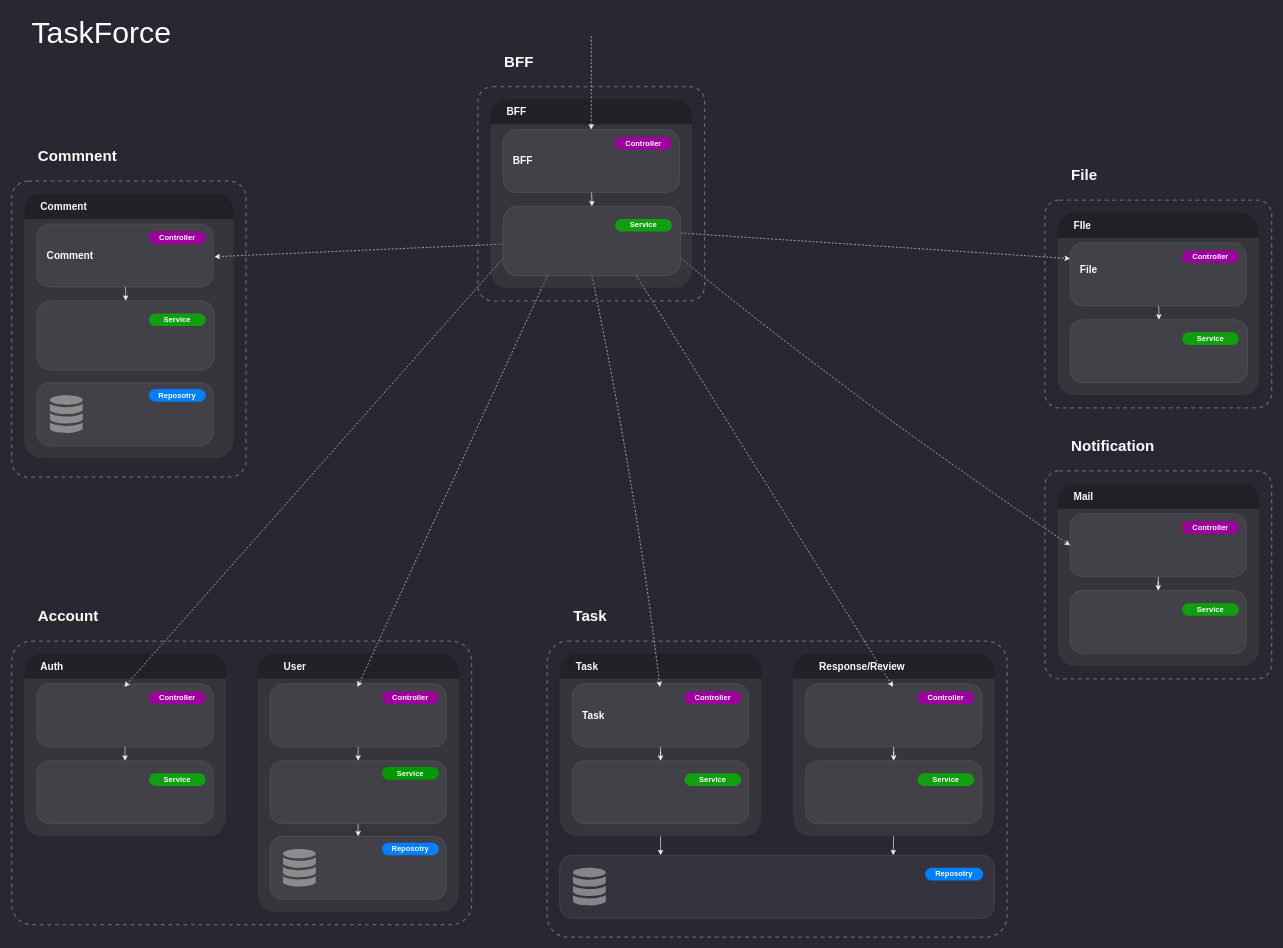
This 1283x948 diagram has some shape labels left out. Each missing label, with the box of its shape:
Auth controller: (36, 683, 213, 747)
Auth Бизнес логика авторизации: (36, 760, 213, 824)
BFF Взаимодействие с другими сервисами приложеня: (502, 206, 681, 276)
Comment Бизнес логика обсуждения задания: (36, 300, 215, 370)
Comment Хранение комментариев: (36, 382, 213, 446)
File Бизнес логика сохранения изображений: (1069, 319, 1248, 383)
Mail controller: (1069, 513, 1246, 577)
Mail Бизнес логика почтовой рассылки: (1069, 590, 1246, 654)
Response/Review controller: (805, 683, 982, 747)
Response/Review Бизнес логика откликов и отзывов: (805, 760, 982, 824)
Task & Review Хранение заданий, откликов и отзывов: (559, 855, 994, 918)
Task Бизнес логика заданий: (572, 760, 749, 824)
User controller: (269, 683, 446, 747)
User Бизнес логика пользлвателей: (269, 760, 446, 824)
User Хранение пользователей: (269, 836, 446, 899)
